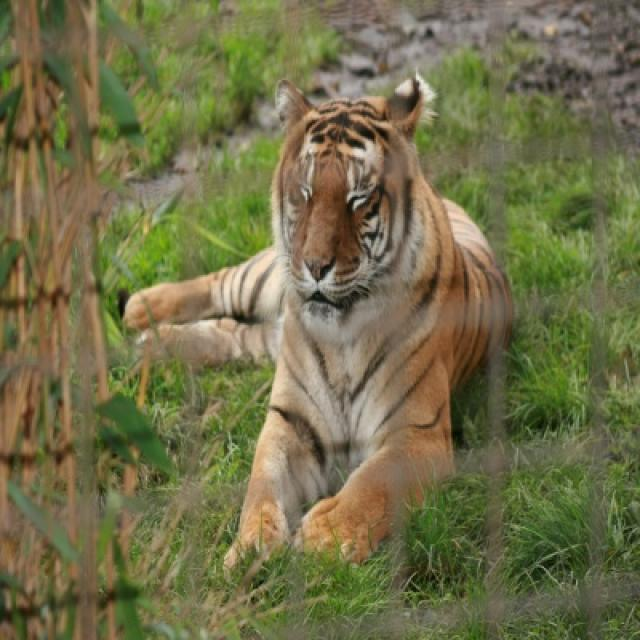Tiger: (112, 64, 517, 590)
